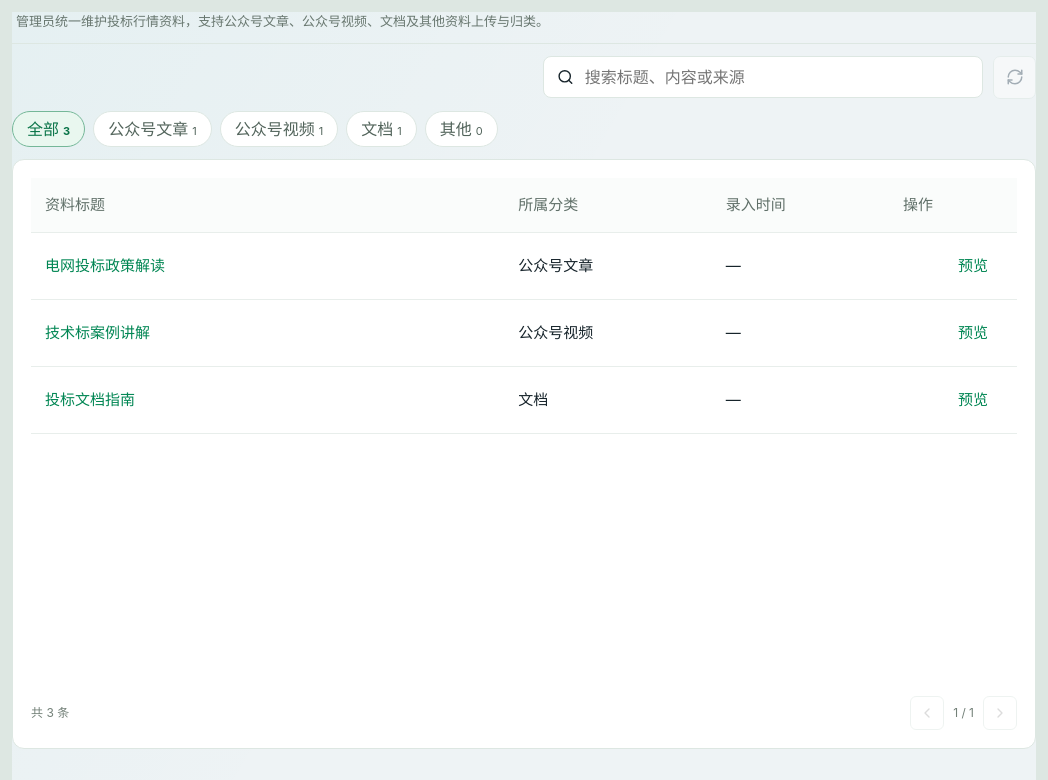
Test: BidMarketLibraryPage › filters prop-provided content and previews the selected item
The width and height of the screenshot is (1048, 780).
expect the number of buttons "电网投标政策解读" is 1: met, box [45,255,165,277]
Click the button "公众号视频1": point(279, 128) [220,110,338,146]
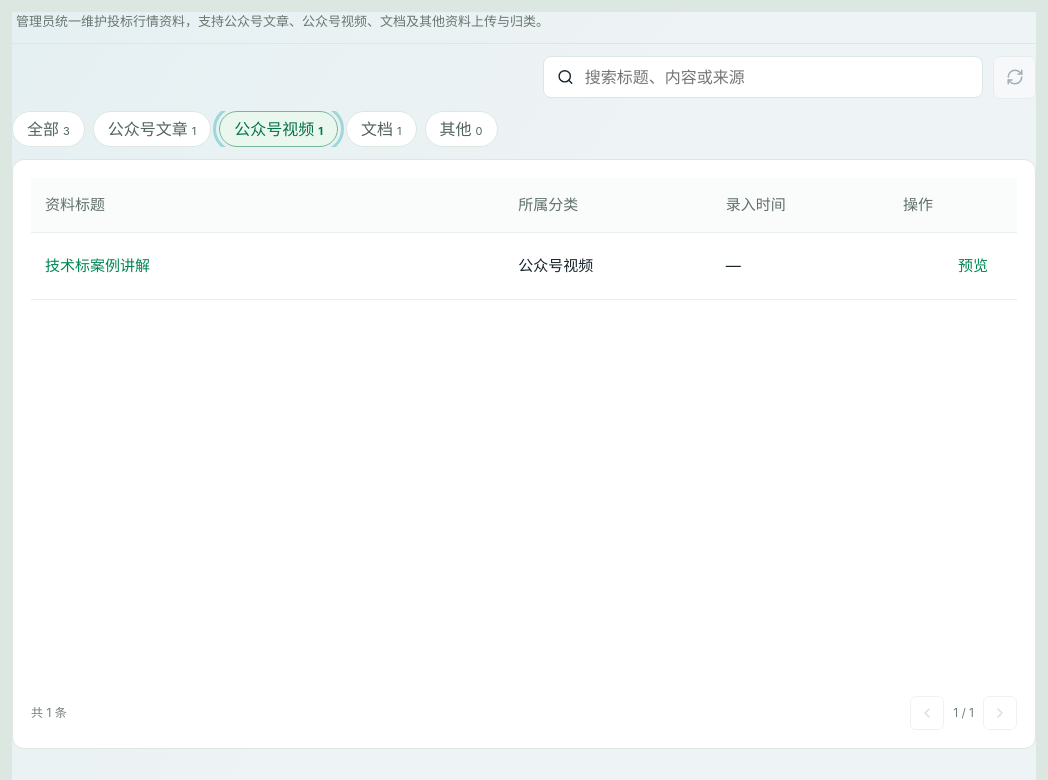
expect the number of buttons "技术标案例讲解" is 1: met
expect the button "投标文档指南" is gone: met
Click the button with aria-label "预览技术标案例讲解": point(98, 266) [45,255,150,277]
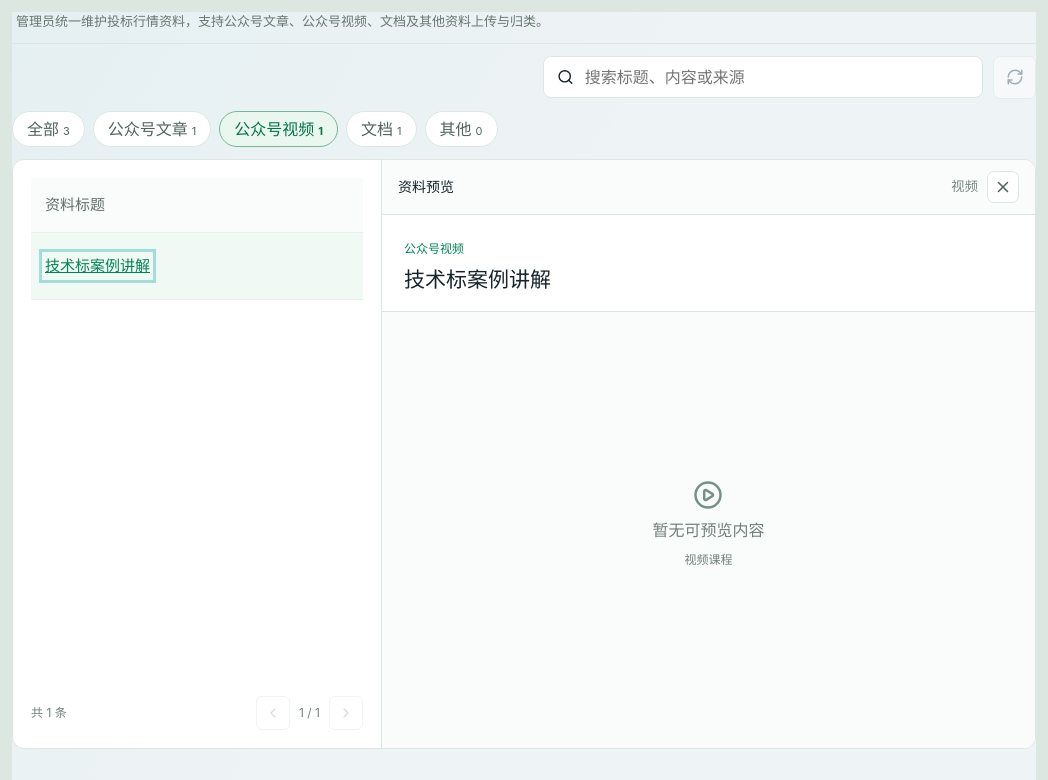
expect the heading "技术标案例讲解" is shown: met, box [404,266,551,292]
Click the button named "关闭资料预览": point(1003, 186) [987,170,1019,202]
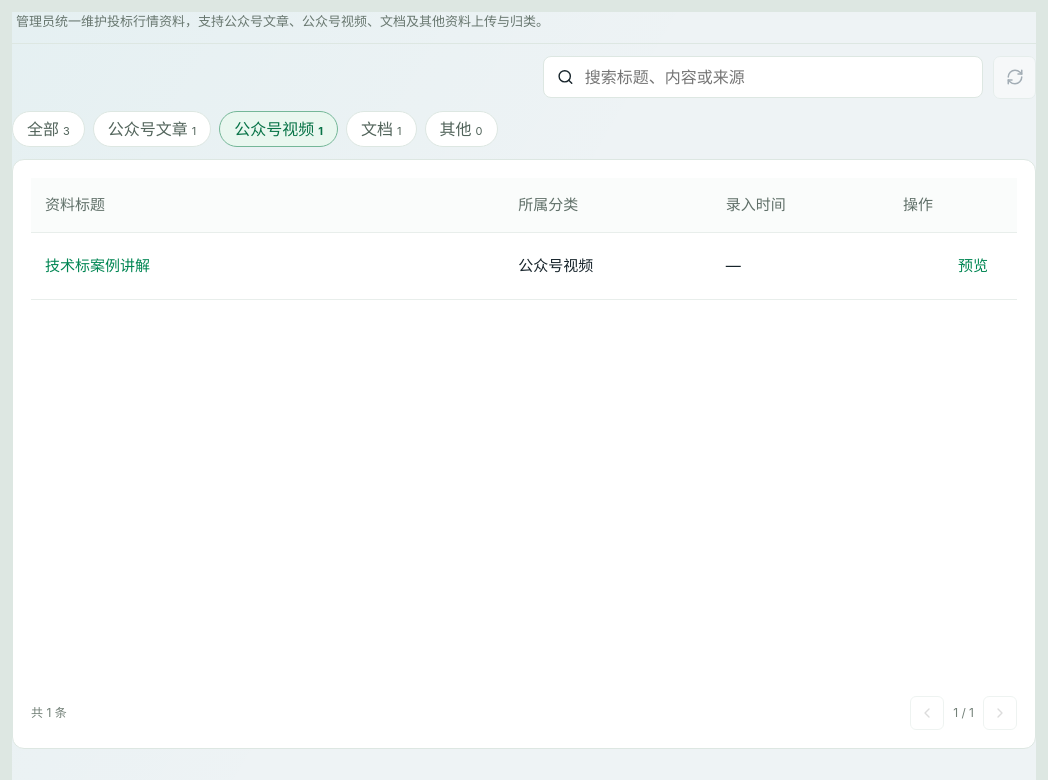
expect the text "资料预览" is gone: met
